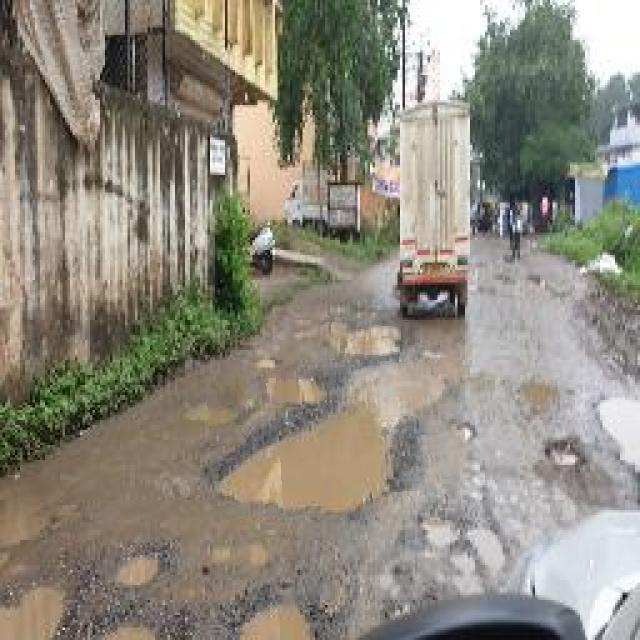puddle: (209, 366, 461, 518), (323, 319, 408, 363)
